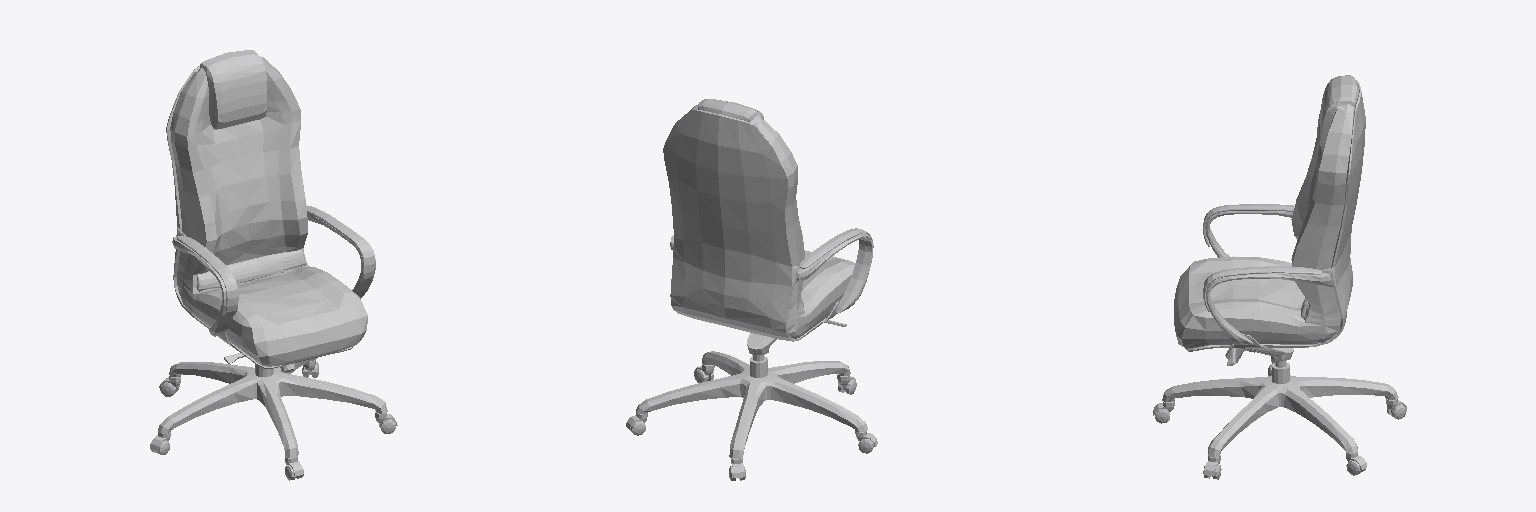
File: office-chair-2.obj
3 renders of one model, left to right at view 1: azimuth 30°, elevation 25°; view 2: azimuth 150°, elevation 25°; view 3: azimuth 270°, elevation 25°, orthographic.
Parts seen in each view (by area): view 1: officeChair; view 2: officeChair; view 3: officeChair.
Boxes of the visible parts, x1=… form: officeChair: x1=150, y1=50, x2=397, y2=480; officeChair: x1=626, y1=99, x2=877, y2=480; officeChair: x1=1153, y1=75, x2=1406, y2=479.
Size of the model in its own units: 0.8592 by 1.34 by 0.8864.